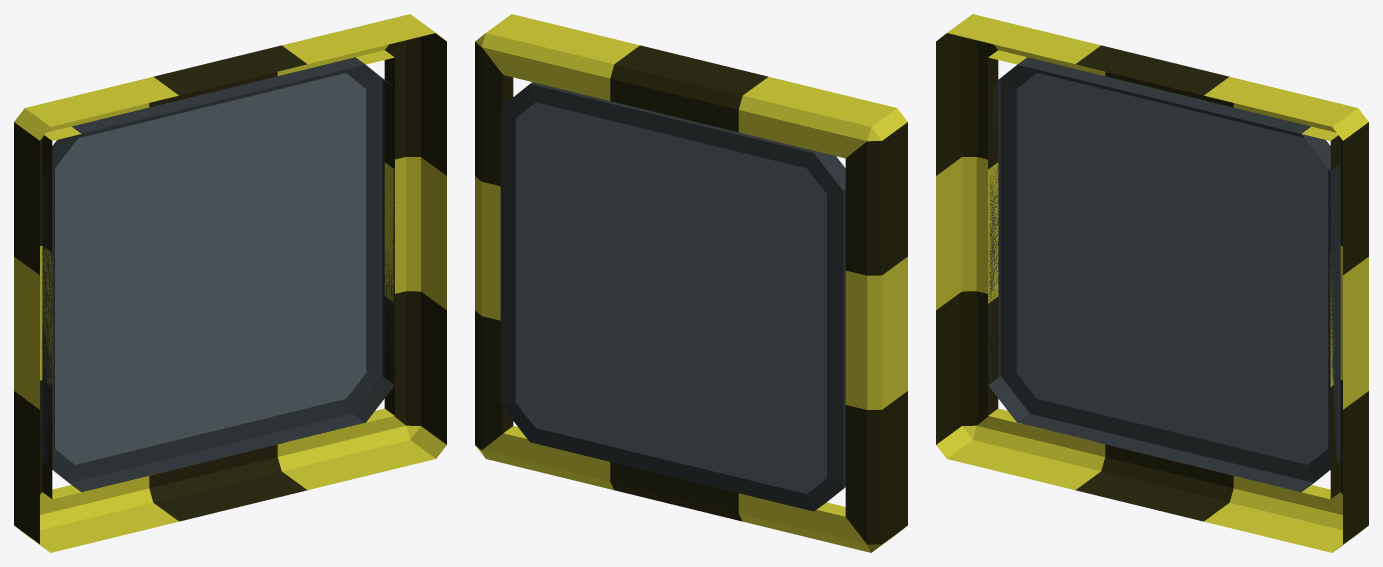
File: Teleport 01.FBX
The picture shows the model from 3 angles, left to right: view 1: azimuth 30°, elevation 25°; view 2: azimuth 150°, elevation 25°; view 3: azimuth 330°, elevation 25°; orthographic projection.
Parts seen in each view (by area): view 1: Teleport 01; view 2: Teleport 01; view 3: Teleport 01.
Boxes of the visible parts, <box> form: Teleport 01: <box>14,14,446,552</box>; Teleport 01: <box>475,14,907,552</box>; Teleport 01: <box>936,14,1368,552</box>.
Bounding box in the file's own units: 283 × 283 × 39.85.
Materials: 1 (1 with a texture image).
